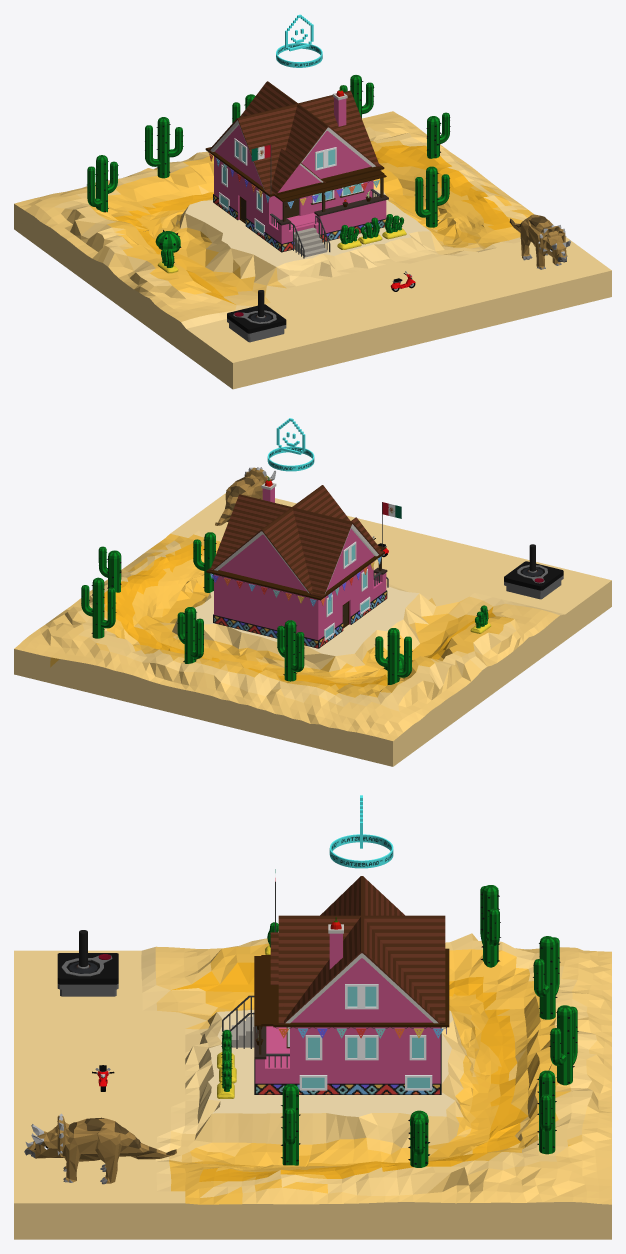
3 views of the same model, one above another, from view 1: azimuth 30°, elevation 25°; view 2: azimuth 150°, elevation 25°; view 3: azimuth 270°, elevation 25° (orthographic). The views are drawn at different scales.
Visible parts, largest first — view 1: Cube.001, Cube.1005, ANIMAL_Triceratops, OBJRANDOM_JOYSTICK, Cylinder.044, Cylinder.037, Cylinder.045, TYPE_PREMIUM, Cylinder.038, Cylinder.042; view 2: Cube.001, Cube.1005, OBJRANDOM_JOYSTICK, Cylinder.042, Cylinder.045, Cylinder.044, ANIMAL_Triceratops, Cylinder.043, TYPE_PREMIUM, Cylinder.037, Cylinder.038; view 3: Cube.001, Cube.1005, ANIMAL_Triceratops, OBJRANDOM_JOYSTICK, Cylinder.044, Cylinder.043, Cylinder.045, Cylinder.042, Cylinder.037, TYPE_PREMIUM, Cylinder.038.
Boxes of the visible parts, left/top/right/bottom form: Cube.001: left=14, top=111, right=611, bottom=389; Cube.1005: left=205, top=81, right=388, bottom=258; ANIMAL_Triceratops: left=509, top=214, right=570, bottom=269; OBJRANDOM_JOYSTICK: left=227, top=290, right=286, bottom=342; Cylinder.044: left=145, top=117, right=183, bottom=178; Cylinder.037: left=415, top=166, right=449, bottom=227; Cylinder.045: left=87, top=155, right=118, bottom=212; TYPE_PREMIUM: left=276, top=14, right=322, bottom=67; Cylinder.038: left=426, top=112, right=450, bottom=158; Cylinder.042: left=339, top=75, right=374, bottom=118; Cube.001: left=14, top=493, right=611, bottom=766; Cube.1005: left=206, top=475, right=401, bottom=648; OBJRANDOM_JOYSTICK: left=504, top=544, right=563, bottom=599; Cylinder.042: left=81, top=577, right=116, bottom=638; Cylinder.045: left=374, top=628, right=412, bottom=684; Cylinder.044: left=277, top=620, right=304, bottom=681; ANIMAL_Triceratops: left=215, top=467, right=275, bottom=525; Cylinder.043: left=177, top=607, right=203, bottom=663; TYPE_PREMIUM: left=267, top=418, right=314, bottom=471; Cylinder.037: left=193, top=532, right=220, bottom=592; Cylinder.038: left=98, top=546, right=121, bottom=592; Cube.001: left=14, top=933, right=611, bottom=1239; Cube.1005: left=222, top=869, right=449, bottom=1094; ANIMAL_Triceratops: left=24, top=1113, right=176, bottom=1184; OBJRANDOM_JOYSTICK: left=57, top=930, right=118, bottom=996; Cylinder.044: left=533, top=936, right=560, bottom=1019; Cylinder.043: left=549, top=1005, right=578, bottom=1085; Cylinder.045: left=480, top=885, right=500, bottom=967; Cylinder.042: left=537, top=1070, right=556, bottom=1154; Cylinder.037: left=281, top=1084, right=300, bottom=1165; TYPE_PREMIUM: left=329, top=795, right=393, bottom=868; Cylinder.038: left=408, top=1110, right=429, bottom=1167.
Bounding box in the file's own units: 4002 × 2387 × 4001.
Materials: 73 (6 with a texture image).
